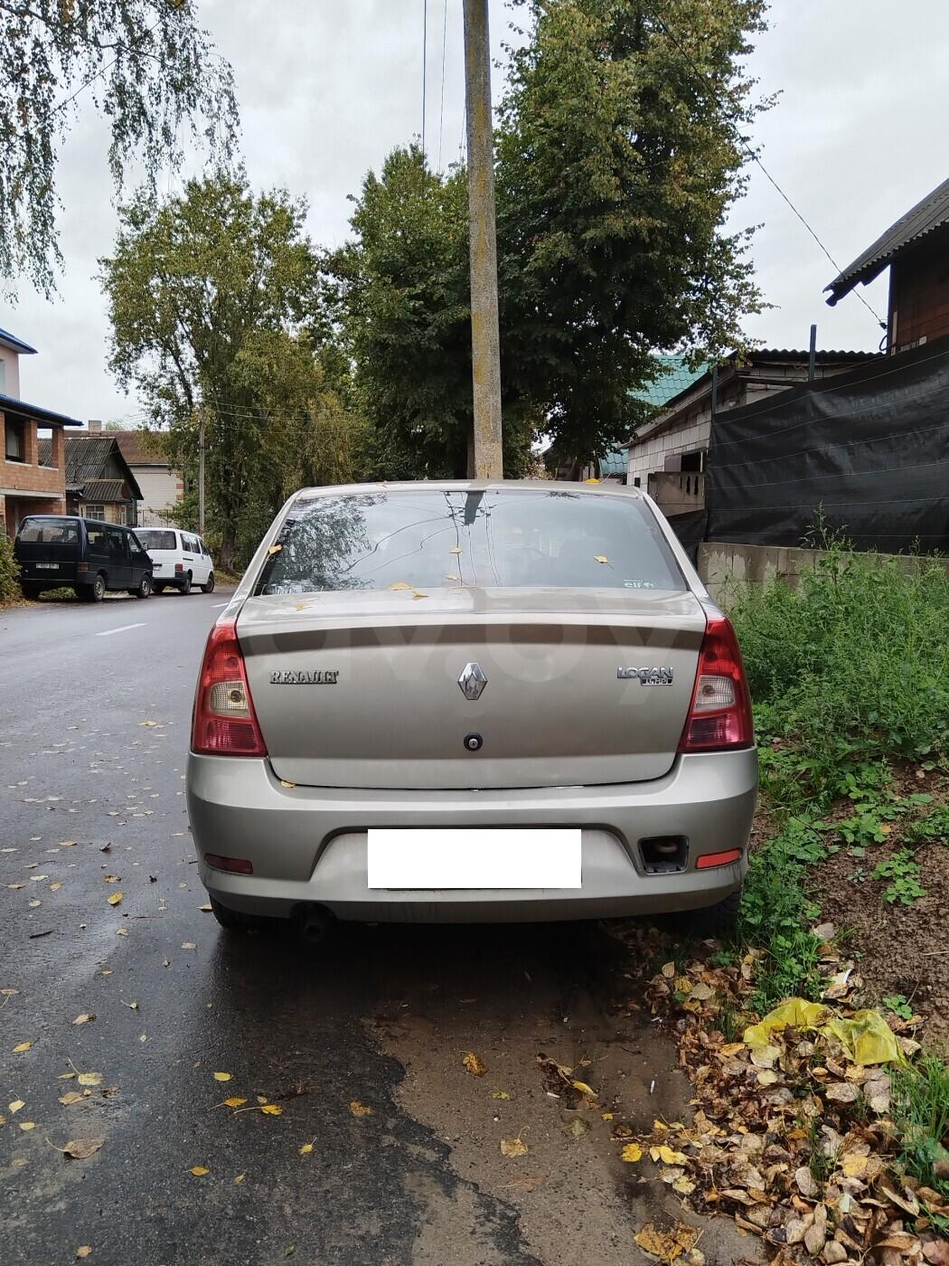Logan_2008-2015: (179, 472, 768, 948)
